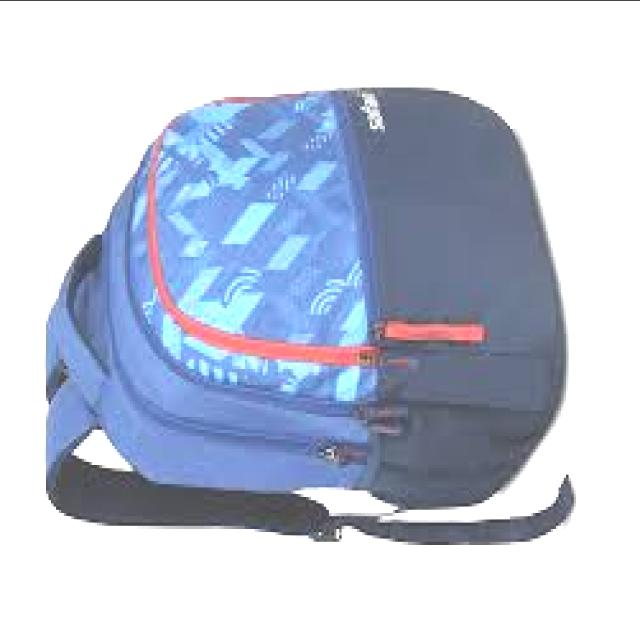backpack: (42, 88, 575, 549)
